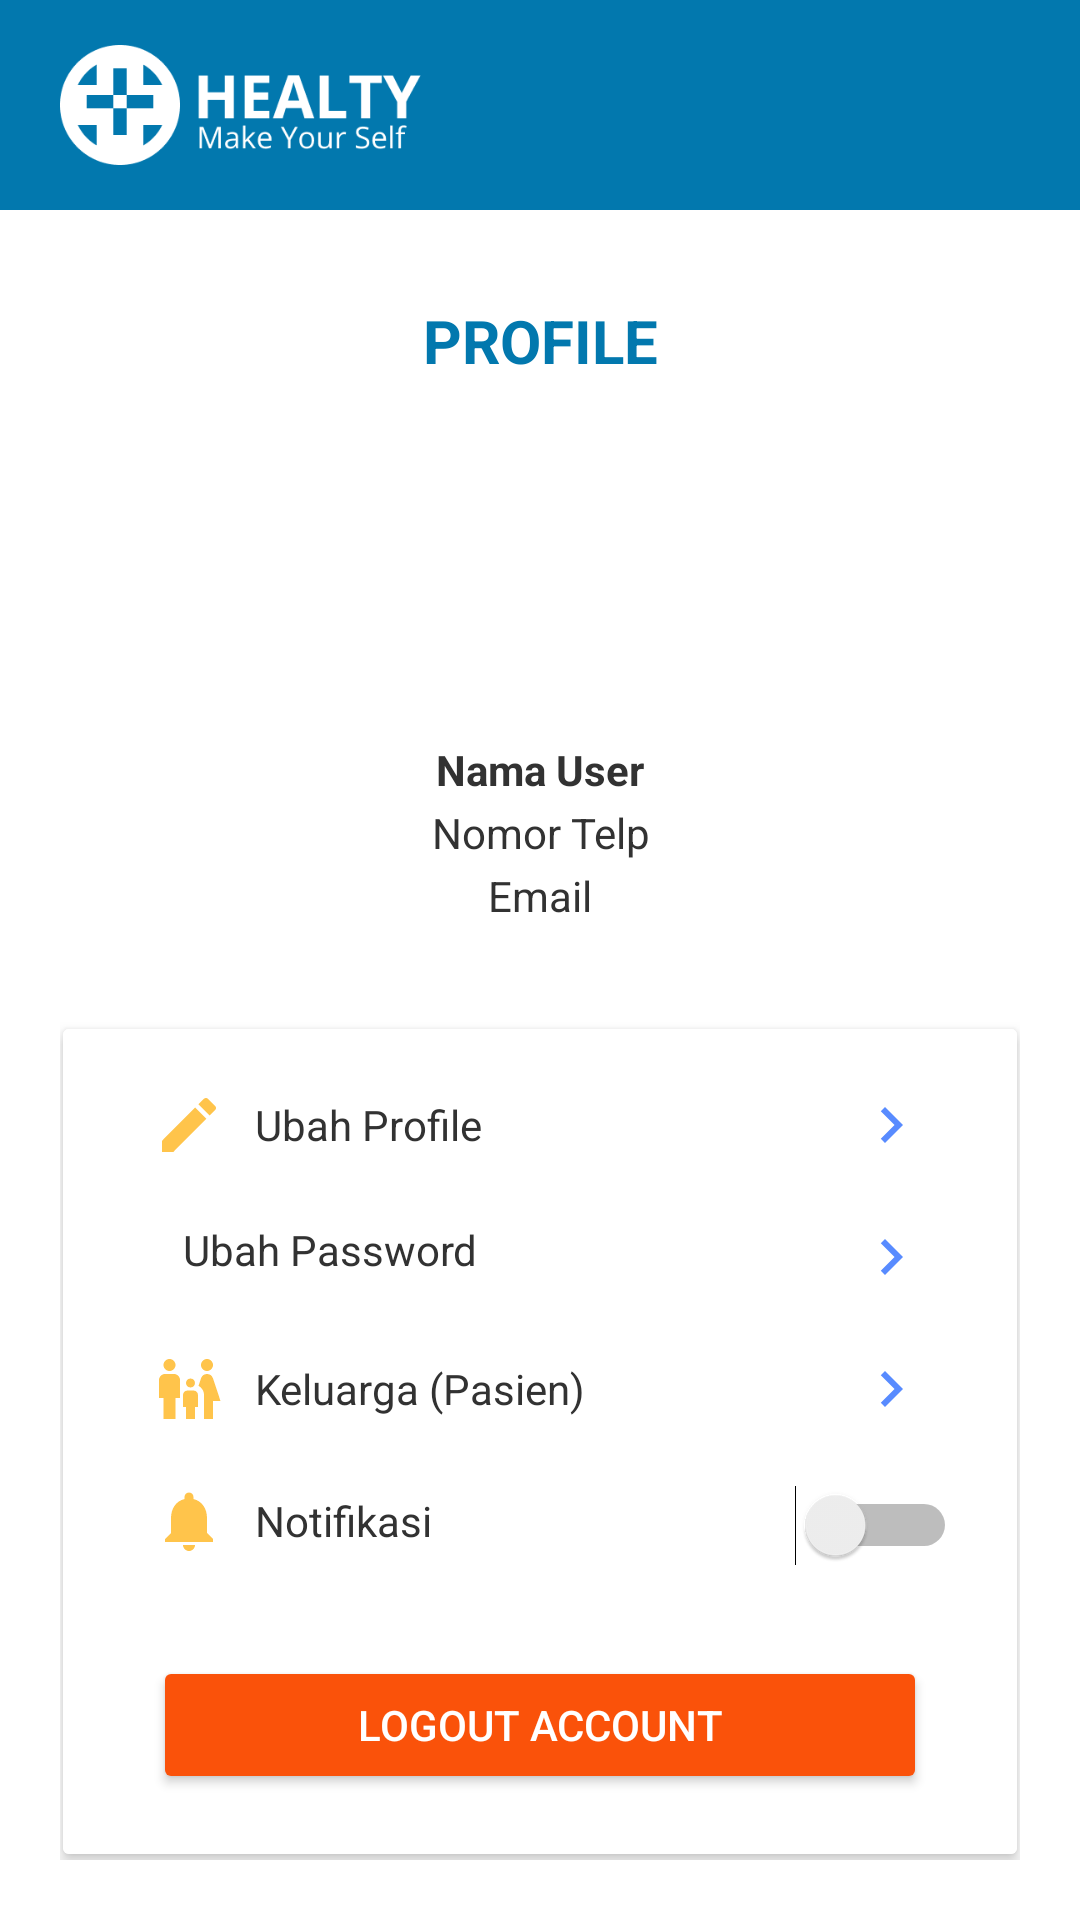

Icon click points for this 1080w x 1920h phone screenshot, format point (x, y):
chevron right: point (892, 1125), point (892, 1257), point (892, 1389)
edit: point (189, 1125)
family restroom: point (190, 1389)
notifications: point (189, 1521)
